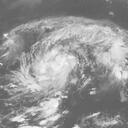cyclone: (24, 37, 81, 90)
